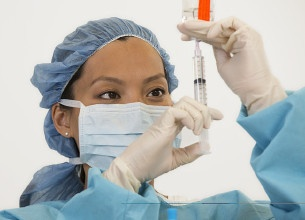Mask: (68, 62, 185, 179)
